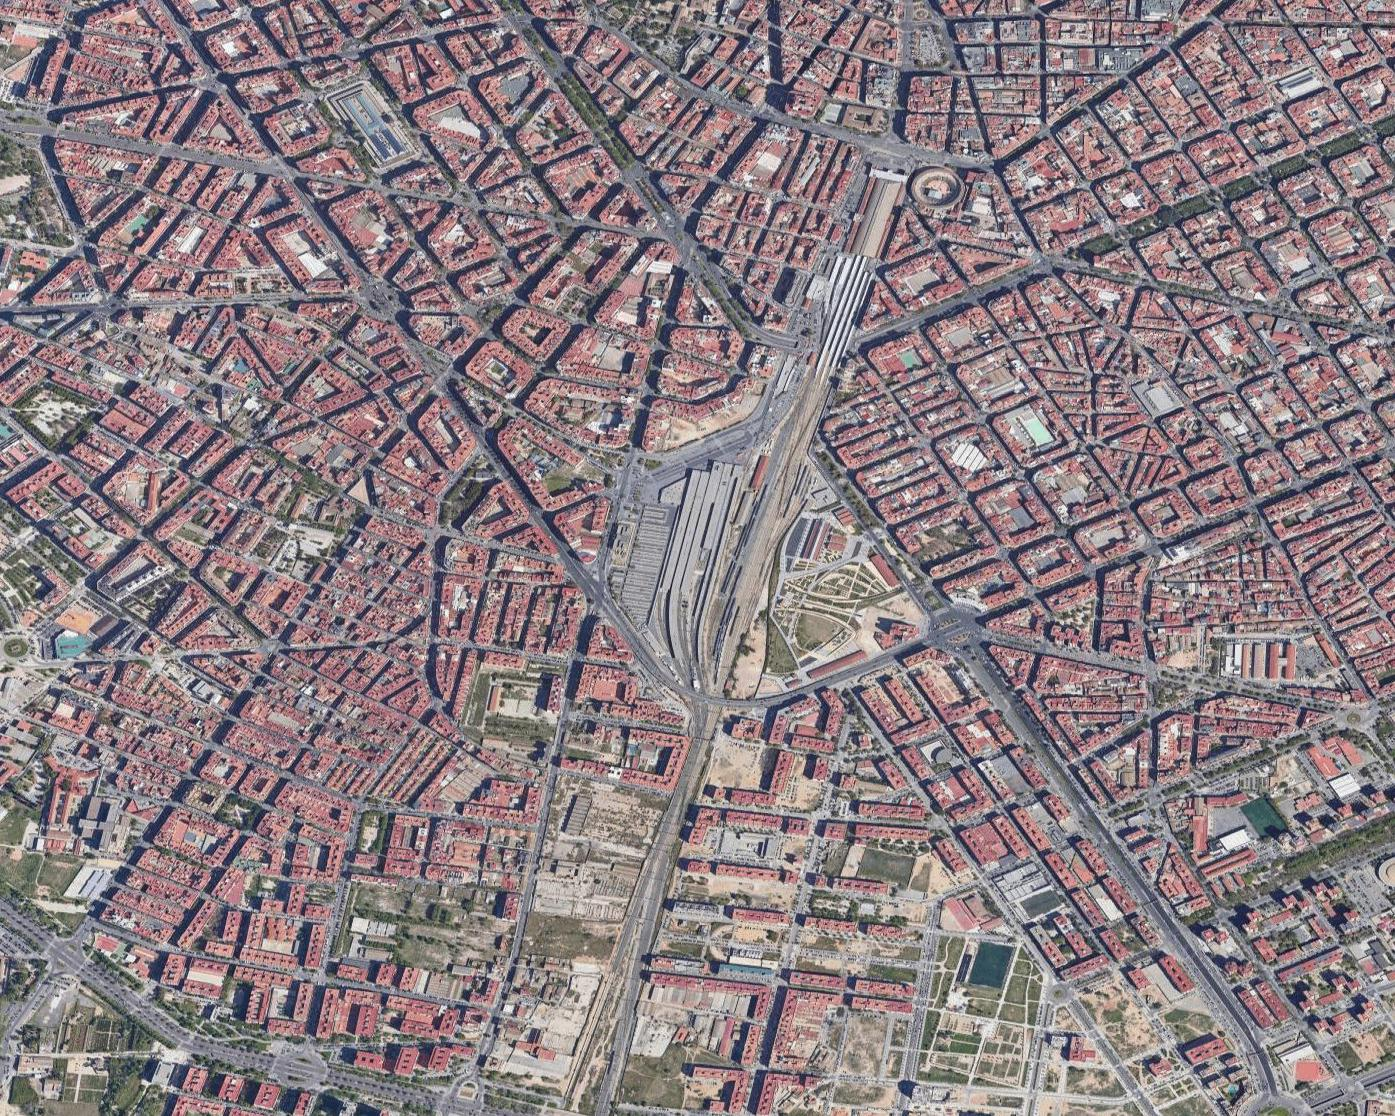train_station: (618, 454, 777, 691)
